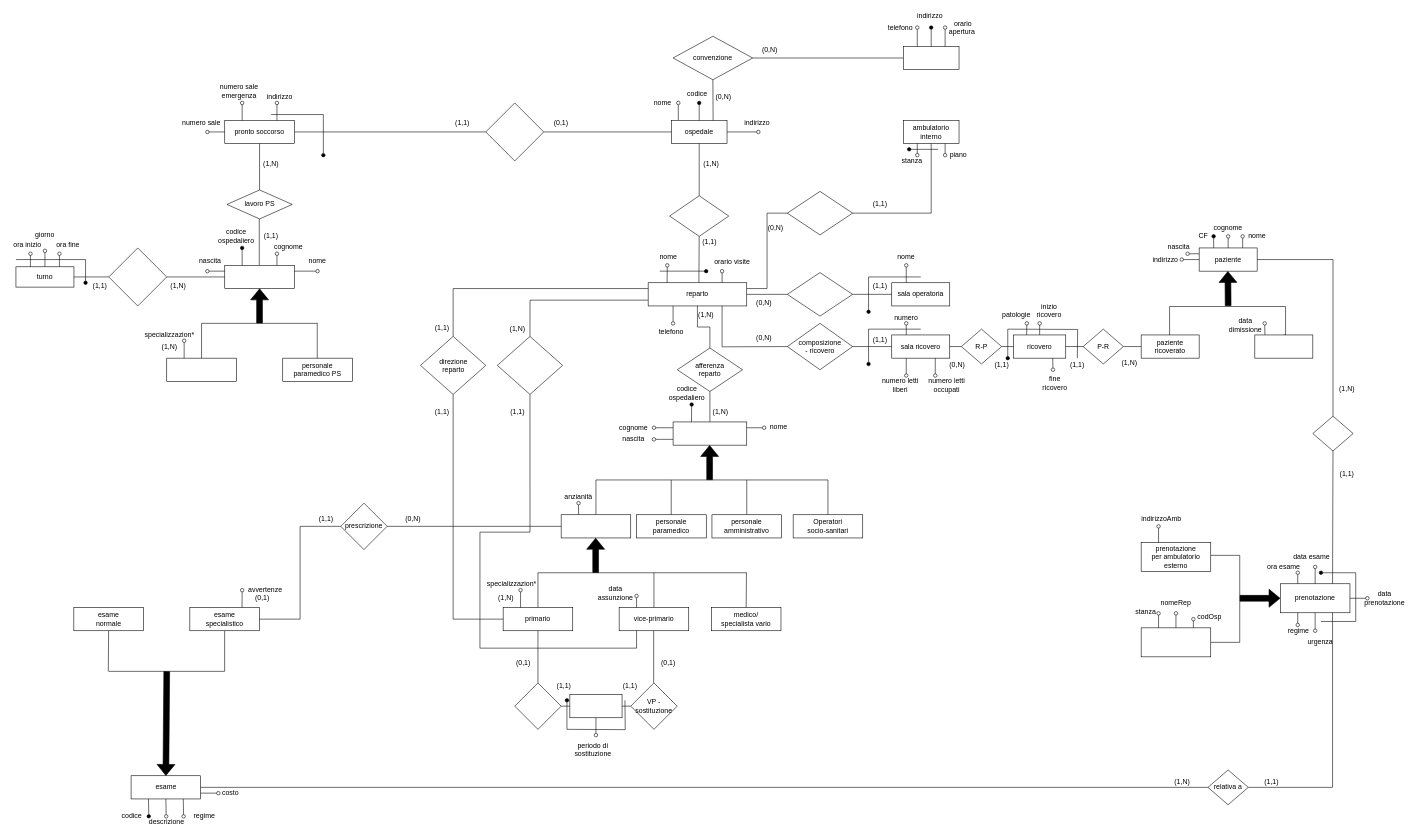
This 1418x838 diagram has some shape labels left out. Each missing label, with the box of its shape:
ambulatorio esterno: (903, 46, 959, 70)
appartenenza reparto: (787, 272, 853, 316)
composizione PS: (485, 102, 544, 161)
composizione reparti: (669, 195, 729, 236)
contiene: (787, 191, 853, 235)
effettua: (1312, 416, 1353, 451)
lavoro reparto: (497, 336, 563, 394)
opera su: (108, 247, 167, 306)
paziente dimesso: (1254, 334, 1313, 358)
personale: (673, 421, 747, 445)
personale medico: (561, 514, 631, 538)
personale medico PS: (166, 358, 236, 381)
personale pronto soccorso: (224, 265, 294, 289)
prenotazione per ambulatorio interno: (1141, 627, 1211, 657)
primario -sostituzione: (514, 682, 561, 729)
sostituzione: (569, 694, 622, 718)
